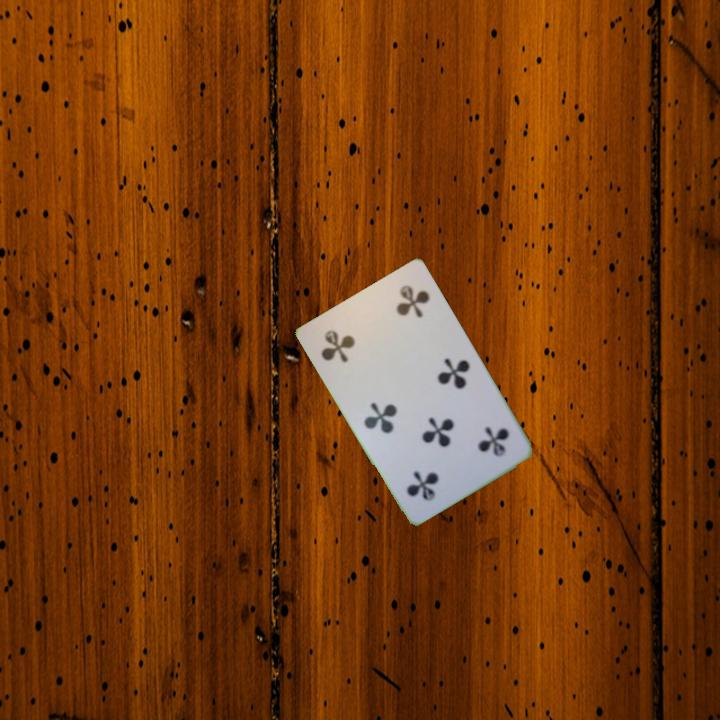c_7.png: (438, 402, 523, 484), (307, 301, 392, 383)
